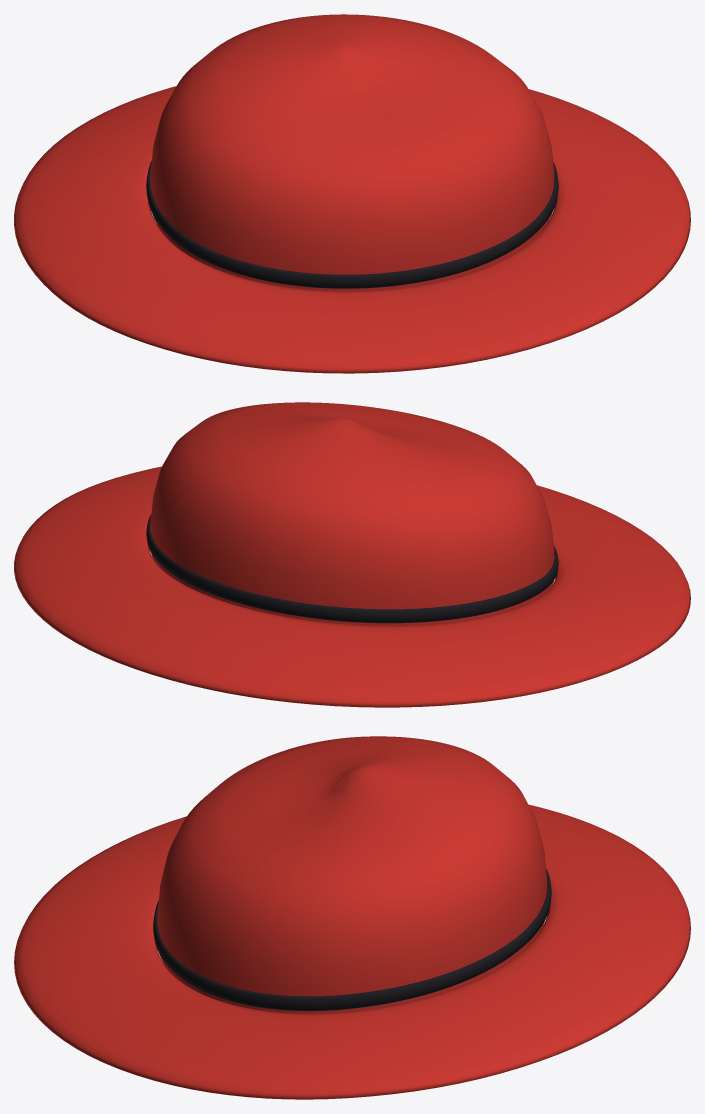
The model's file is hw_straw.glb.
3 renders of one model, top to bottom at view 1: azimuth 30°, elevation 25°; view 2: azimuth 150°, elevation 25°; view 3: azimuth 270°, elevation 25°, orthographic. The views are drawn at different scales.
Parts seen in each view (by area): view 1: hw_straw, hw_straw_brim, hw_straw_band; view 2: hw_straw_brim, hw_straw, hw_straw_band; view 3: hw_straw_brim, hw_straw, hw_straw_band.
Part boxes in pixels (x1,y1,x2,y2): hw_straw: (150, 14, 554, 291); hw_straw_brim: (14, 86, 690, 373); hw_straw_band: (146, 161, 558, 288); hw_straw_brim: (14, 466, 690, 707); hw_straw: (150, 402, 554, 625); hw_straw_band: (146, 514, 558, 623); hw_straw_brim: (14, 804, 690, 1099); hw_straw: (157, 736, 547, 1013); hw_straw_band: (153, 869, 551, 1011).
Bounding box in the file's own units: 1.35 × 0.4039 × 1.26.
